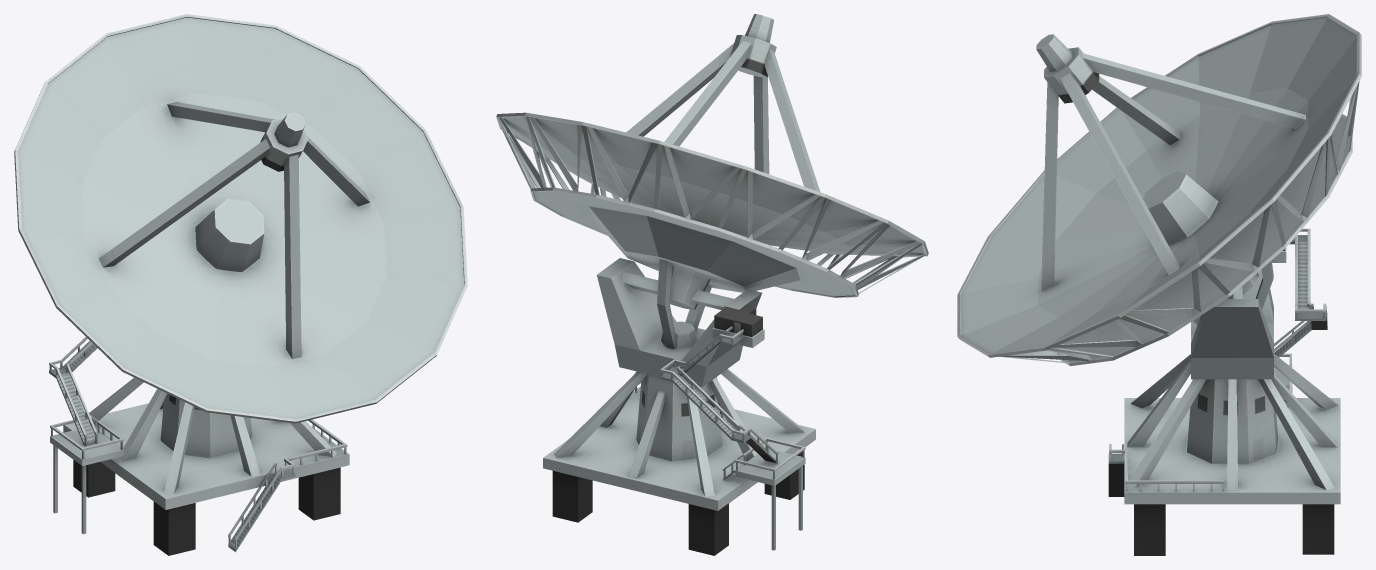
The model's file is dish.glb.
3 views of the same model, side by side, from view 1: azimuth 30°, elevation 25°; view 2: azimuth 150°, elevation 25°; view 3: azimuth 270°, elevation 25° (orthographic). The views are drawn at different scales.
Parts seen in each view (by area): view 1: SatelliteDish_Mesh; view 2: SatelliteDish_Mesh; view 3: SatelliteDish_Mesh.
Part boxes in pixels (box(x1,y1,x2,y2)): SatelliteDish_Mesh: box(14, 14, 467, 555); SatelliteDish_Mesh: box(496, 14, 928, 555); SatelliteDish_Mesh: box(957, 14, 1361, 555).
Size of the model in its own units: 16.38 by 17.35 by 13.36.
1 material, 1 textured.
